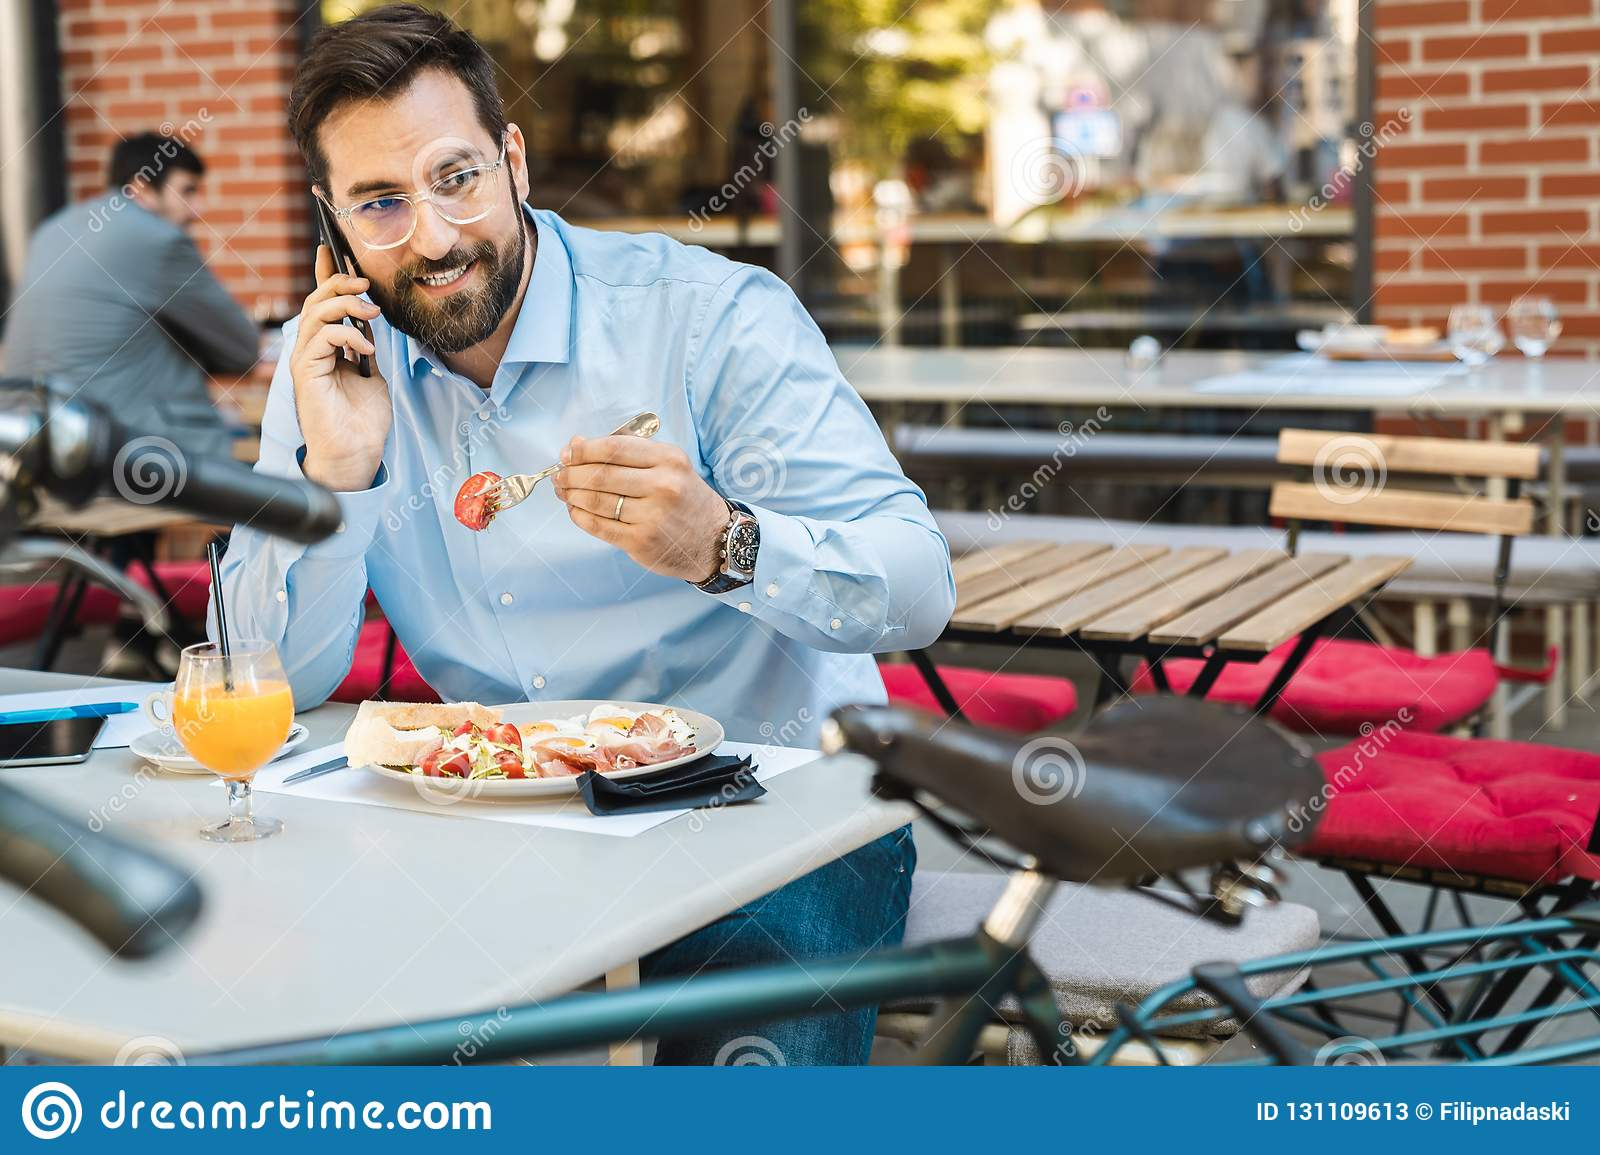phone: (313, 189, 374, 383)
talk: (284, 134, 516, 469)
